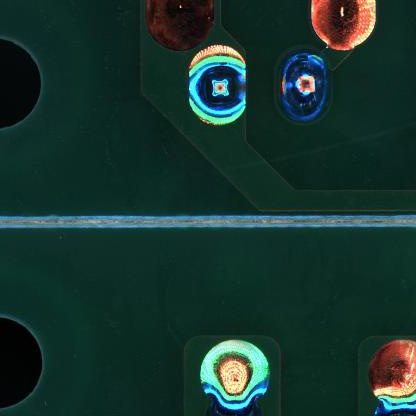spot: (182, 41, 251, 132), (276, 48, 329, 125)
